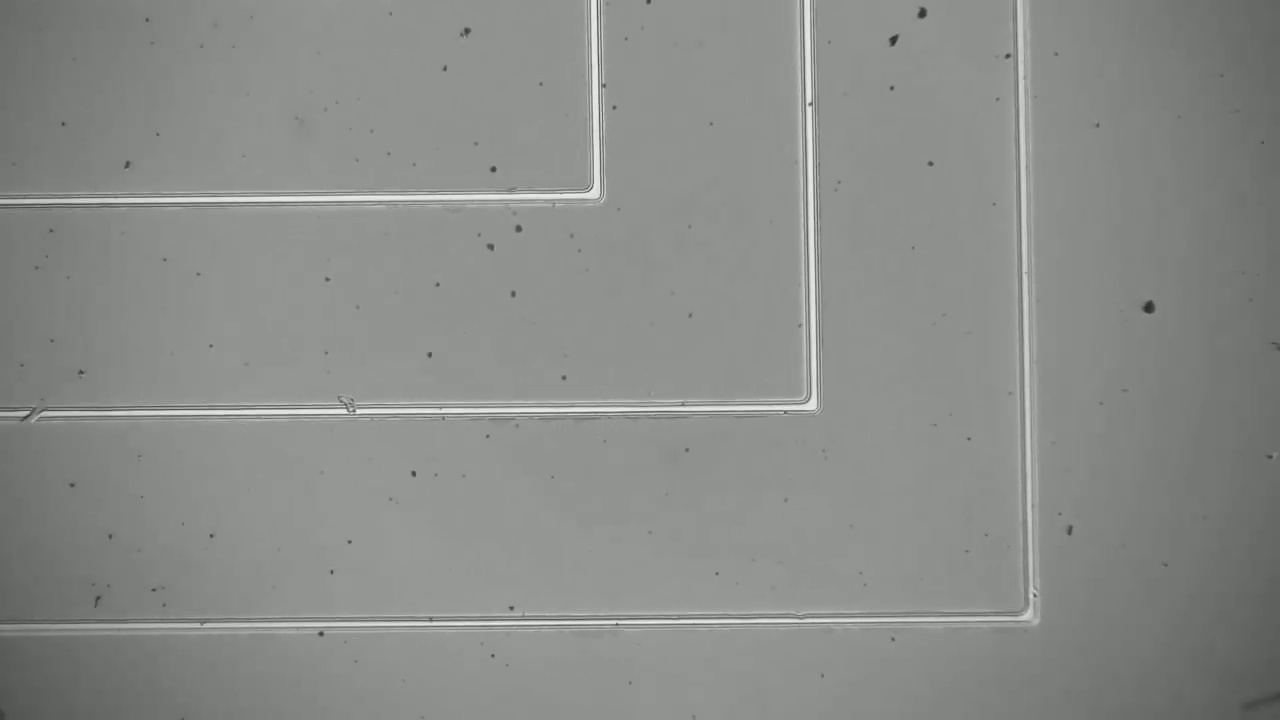open: (9, 396, 63, 430)
stains_enbedded: (329, 385, 372, 433)
